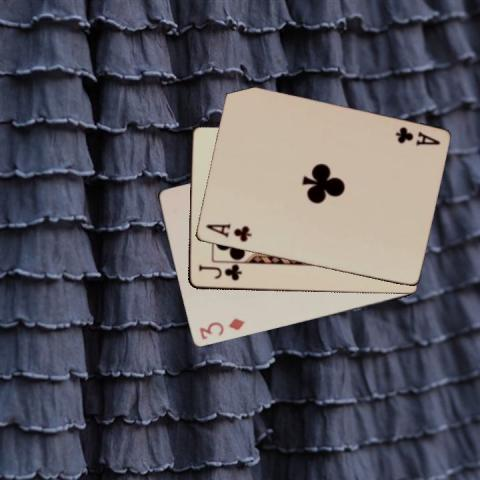3d: (196, 316, 246, 342)
Ac: (202, 220, 252, 243), (392, 124, 441, 147)
Jc: (195, 262, 243, 283)
